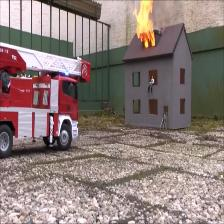fire: (136, 1, 158, 46)
